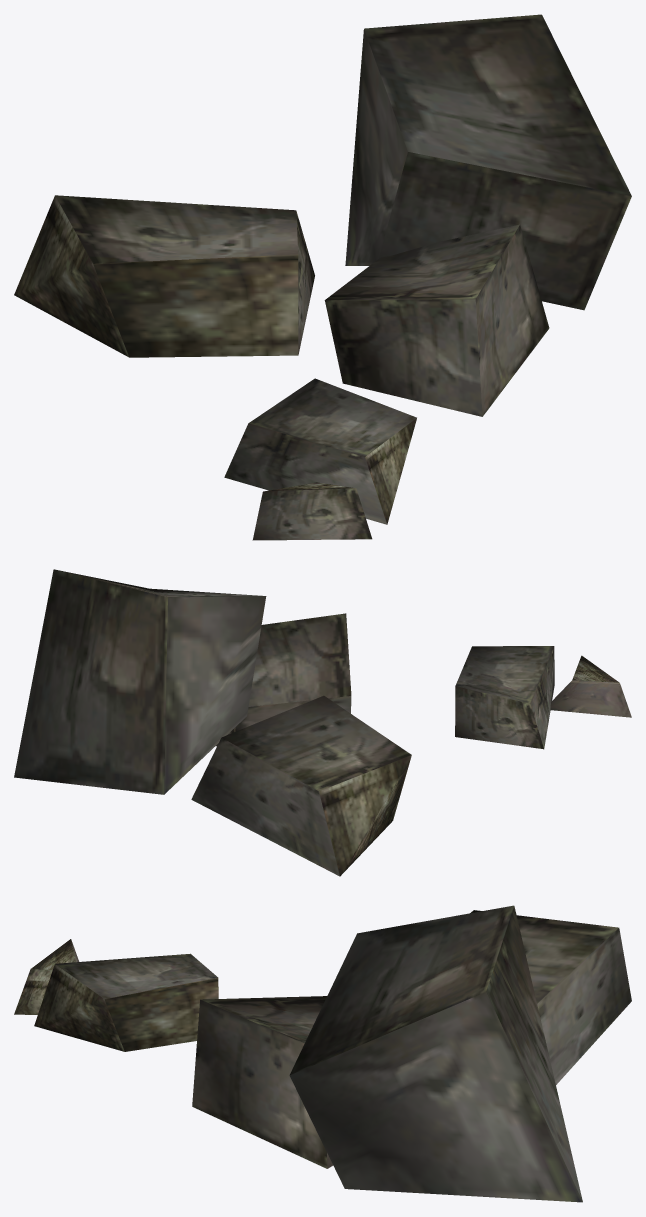
The model's file is S_Build_Muxue036.FBX.
3 renders of one model, top to bottom at view 1: azimuth 30°, elevation 25°; view 2: azimuth 150°, elevation 25°; view 3: azimuth 270°, elevation 25°, orthographic. The views are drawn at different scales.
Visible parts, largest first — view 1: S_Build_Muxue036; view 2: S_Build_Muxue036; view 3: S_Build_Muxue036.
Part boxes in pixels (x1,y1,x2,y2): S_Build_Muxue036: (14, 14, 631, 540); S_Build_Muxue036: (14, 569, 631, 876); S_Build_Muxue036: (14, 905, 631, 1202).
Size of the model in its own units: 291 by 327 by 133.
